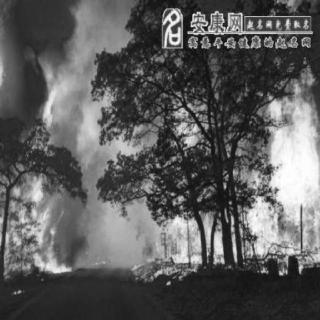Fire: (150, 208, 266, 266)
